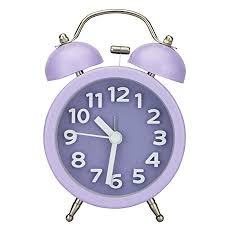alarm_clock: (41, 6, 195, 221), (41, 15, 195, 221), (41, 6, 186, 221)
